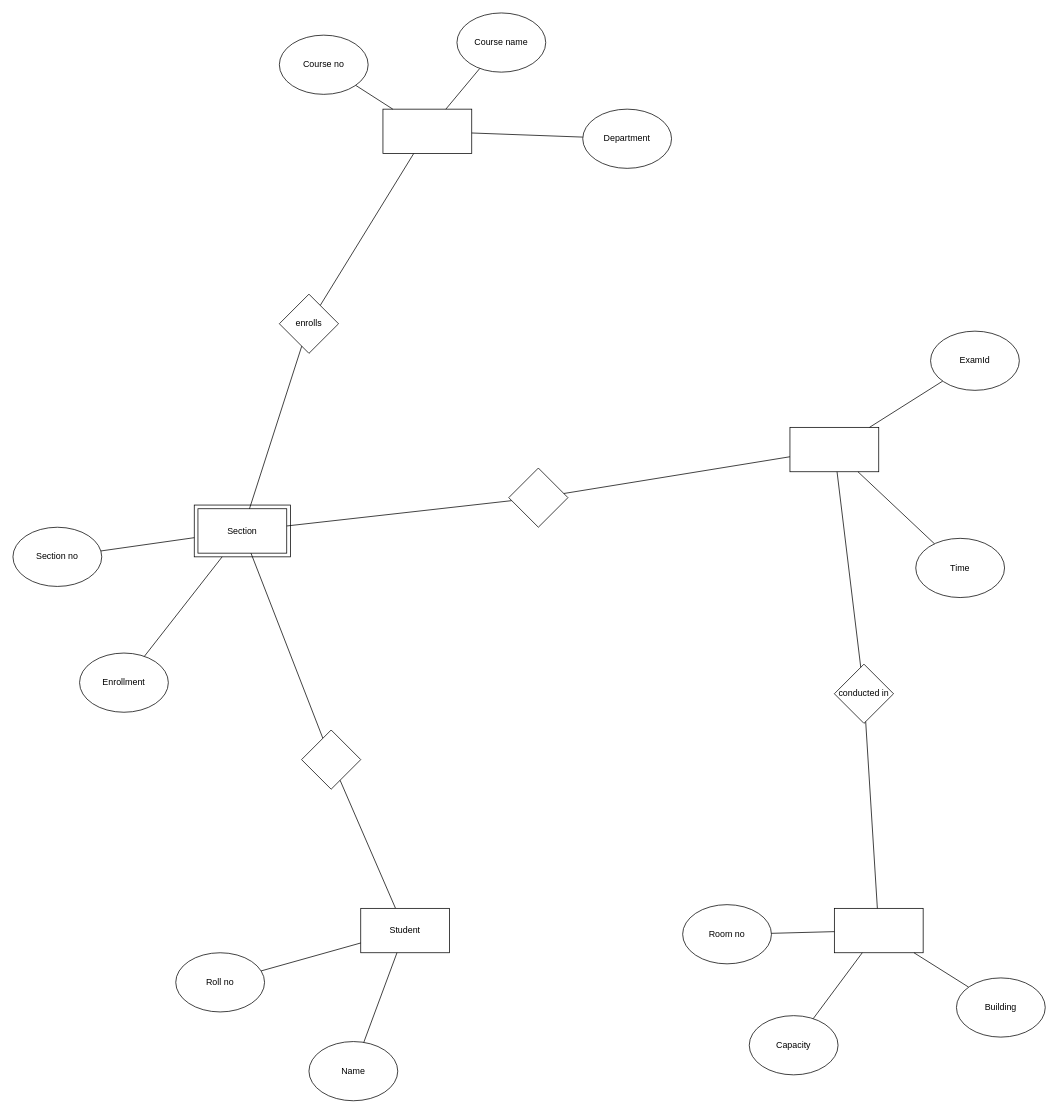
Some shapes in this 1058 by 1114 pixel diagram are drawn without their labels. The centre of each missing label's shape, as x and y in pixels:
"conducts" goes at [538,497].
"Course" goes at [427,131].
"depends on" goes at [331,759].
"Exams" goes at [834,449].
"Room" goes at [878,930].
